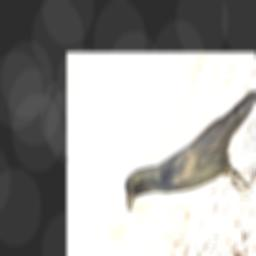Crow: (114, 65, 256, 238)
